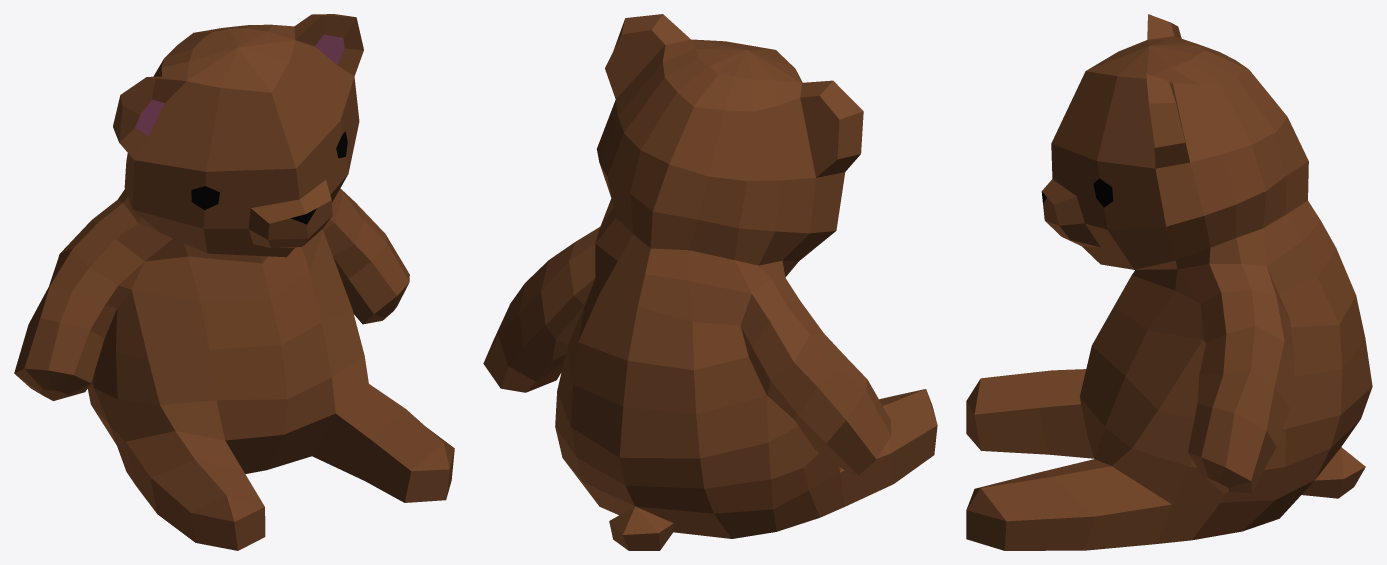
File: teddybear.obj
The picture shows the model from 3 angles, left to right: view 1: azimuth 30°, elevation 25°; view 2: azimuth 150°, elevation 25°; view 3: azimuth 270°, elevation 25°; orthographic projection. The views are drawn at different scales.
Visible parts, largest first — view 1: Plane; view 2: Plane; view 3: Plane.
Part boxes in pixels (x1,y1,x2,y2): Plane: (14,14,454,550); Plane: (483,14,937,550); Plane: (966,14,1372,550).
Bounding box in the file's own units: 0.6187 × 0.6613 × 0.5443.
